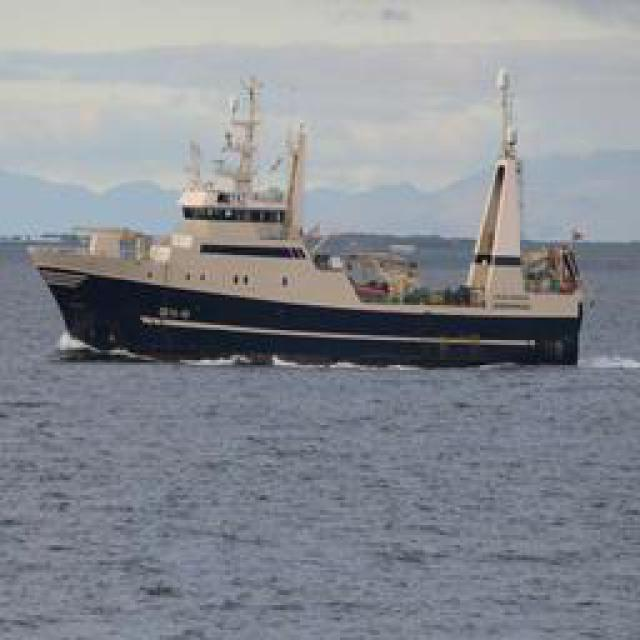Ship: (20, 73, 598, 371)
